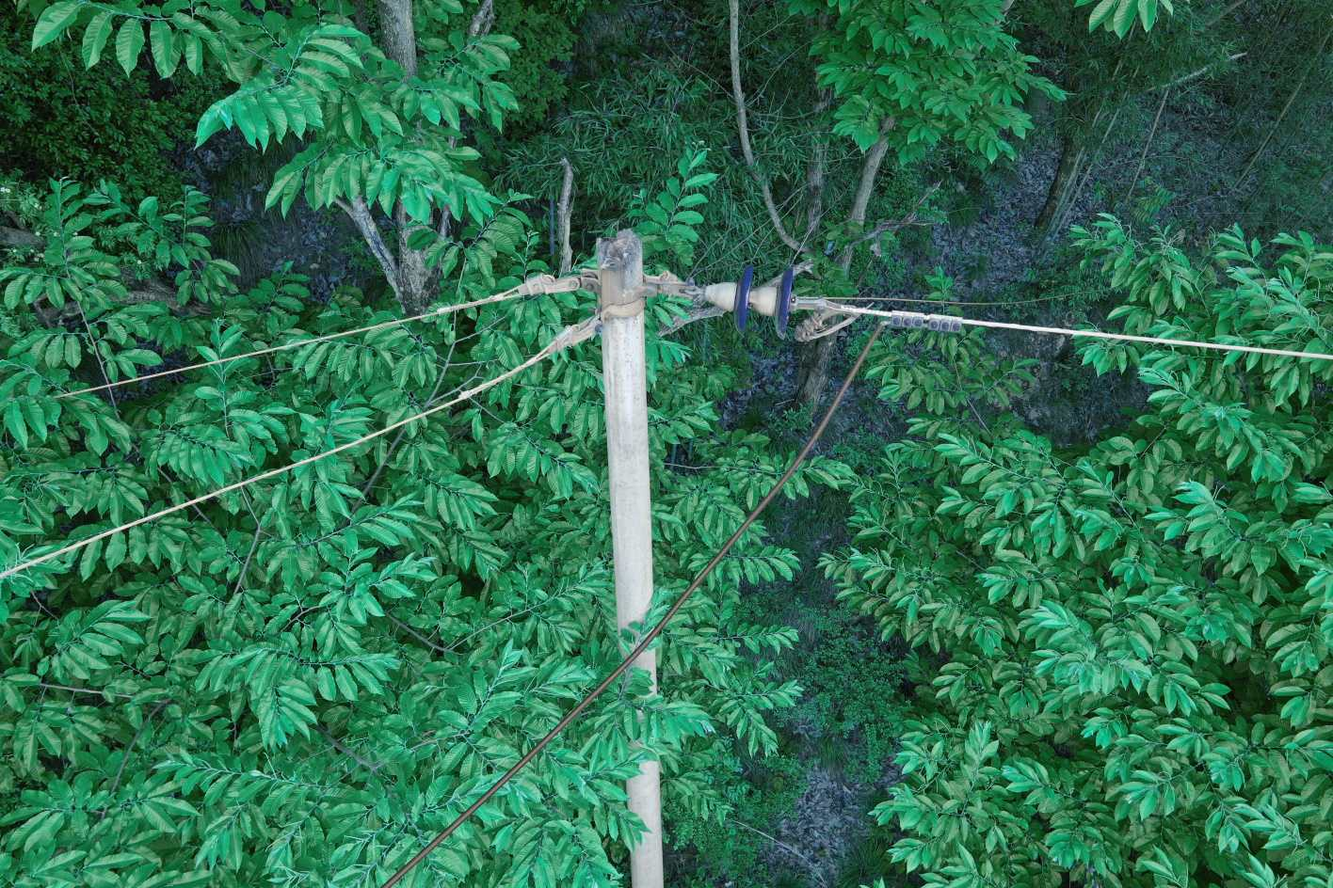severe_soiling_no_discharge_whole: (699, 257, 801, 343)
